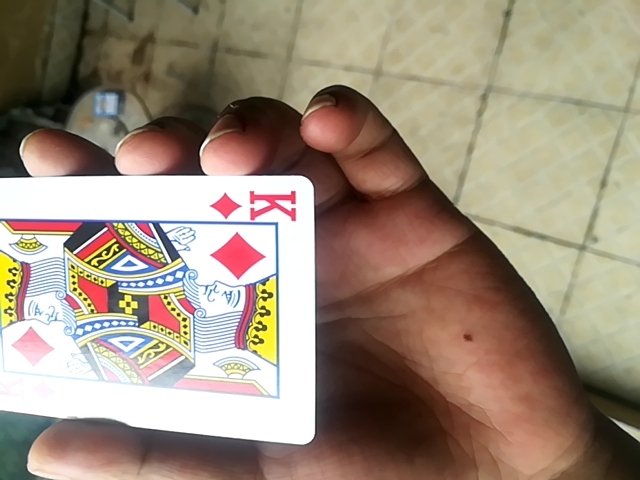fk k: (0, 168, 320, 448)
